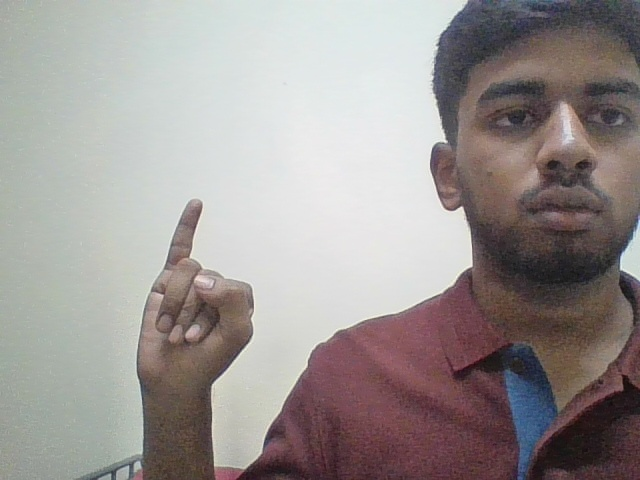I: (124, 192, 265, 415)
